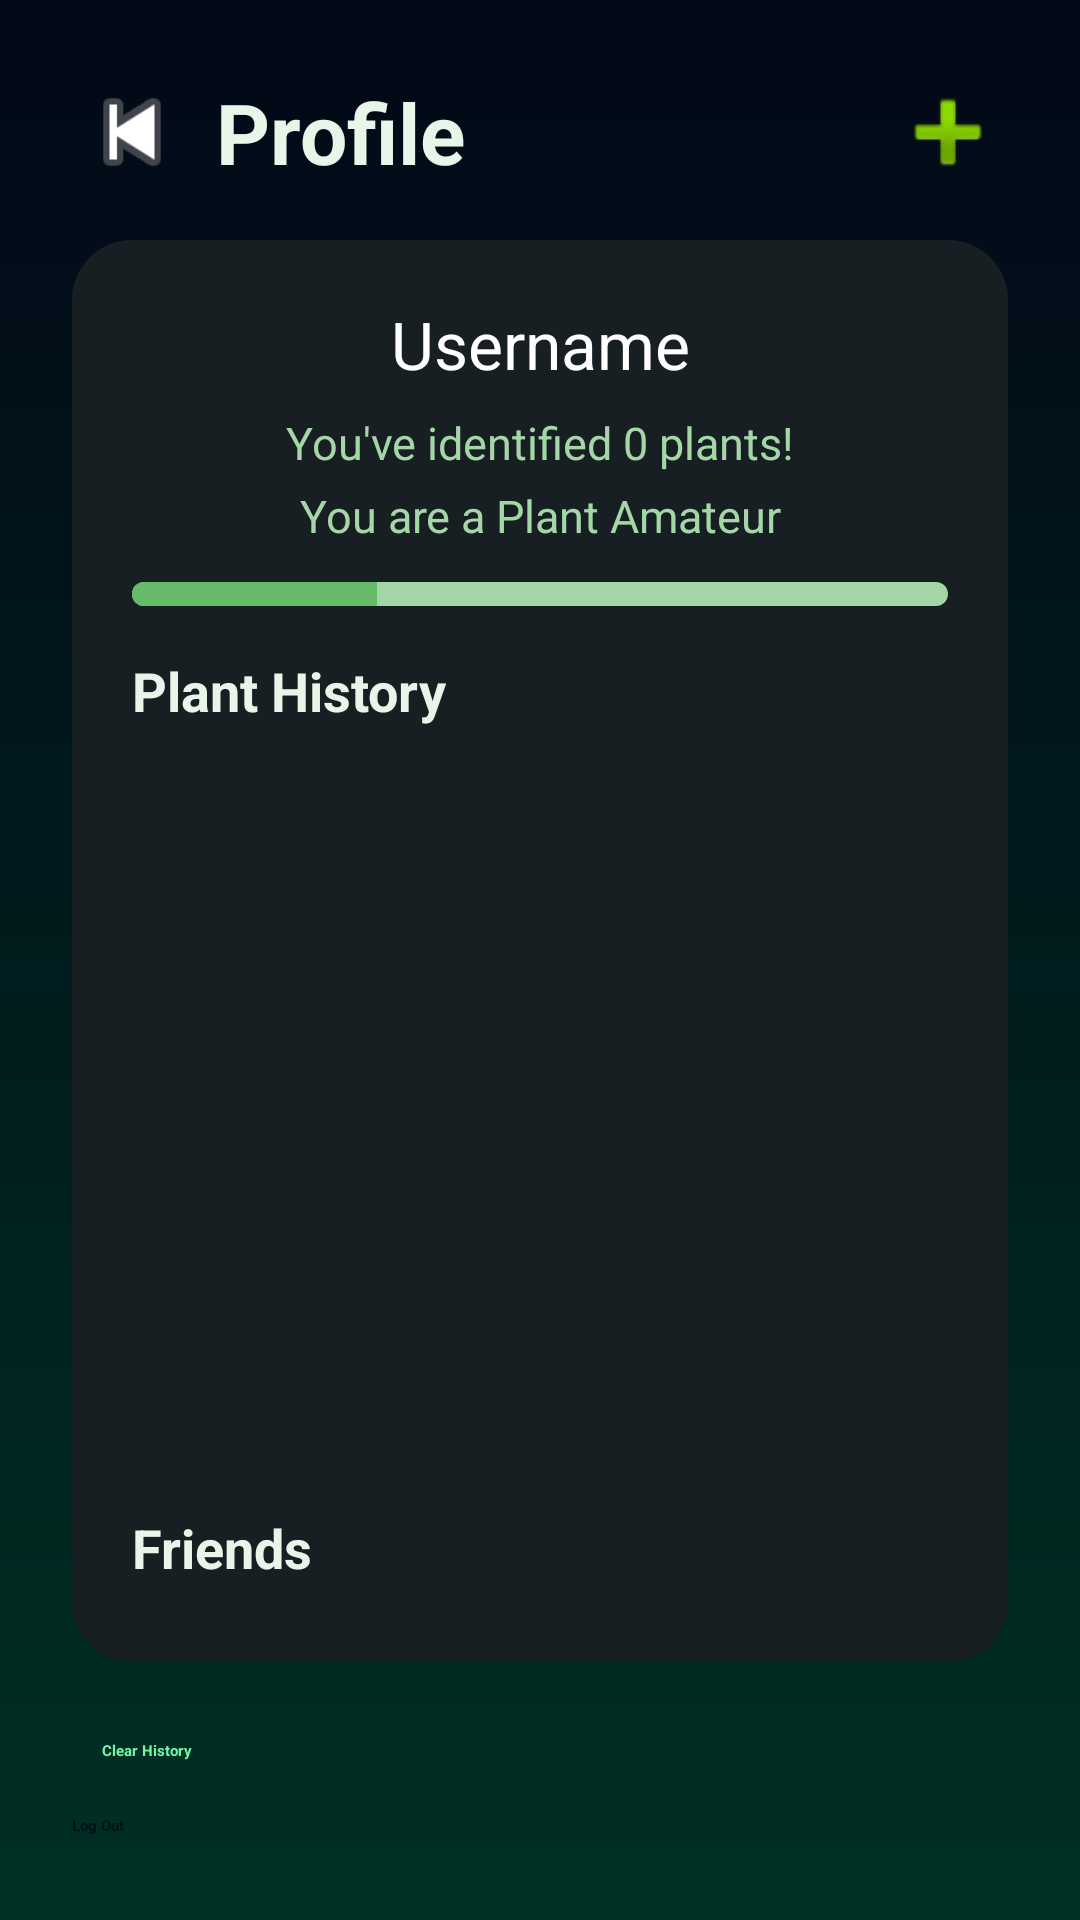

Screen size 1080px×1920px. Icon name, then its center in pixels as (x,y):
Back: (132,132)
